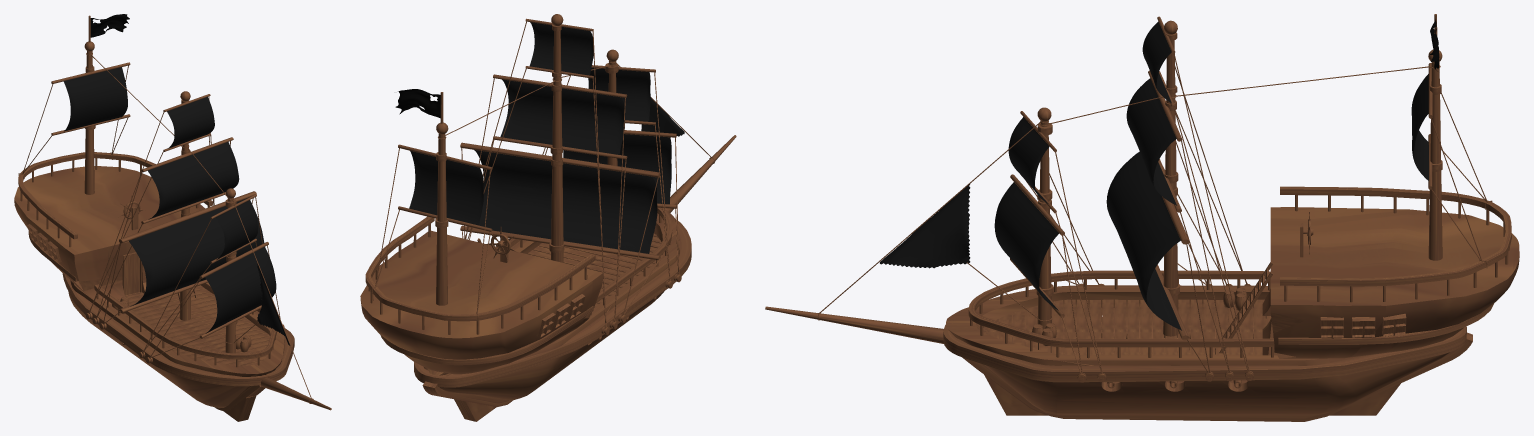
Rendered from Pirate Ship.fbx.
3 renders of one model, left to right at view 1: azimuth 30°, elevation 25°; view 2: azimuth 150°, elevation 25°; view 3: azimuth 270°, elevation 25°, orthographic. The views are drawn at different scales.
Visible parts, largest first — view 1: Object003, Object001, Polygon_Reduction_1, Object002; view 2: Object003, Object001, Polygon_Reduction_1, Object002; view 3: Object003, Polygon_Reduction_1, Object001, Object002.
Boxes of the visible parts, x1,y1,x2,y2 form: Object003: [14, 51, 331, 421]; Object001: [63, 14, 289, 345]; Polygon_Reduction_1: [18, 15, 313, 403]; Object002: [90, 14, 289, 344]; Object003: [360, 30, 736, 421]; Object001: [395, 22, 684, 253]; Polygon_Reduction_1: [368, 14, 714, 387]; Object002: [397, 23, 682, 253]; Object003: [765, 40, 1519, 421]; Polygon_Reduction_1: [818, 14, 1509, 391]; Object001: [879, 19, 1439, 330]; Object002: [1037, 21, 1438, 328].
Size of the model in its own units: 603 by 1877 by 1114.
